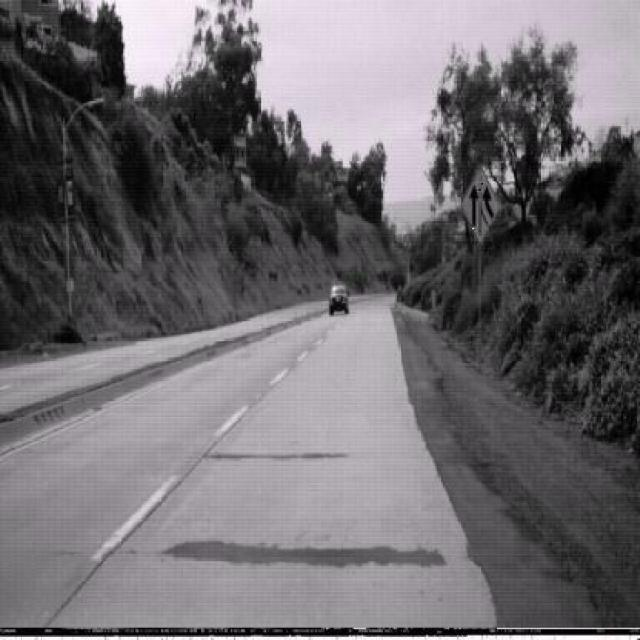addedLane: (460, 163, 502, 245)
